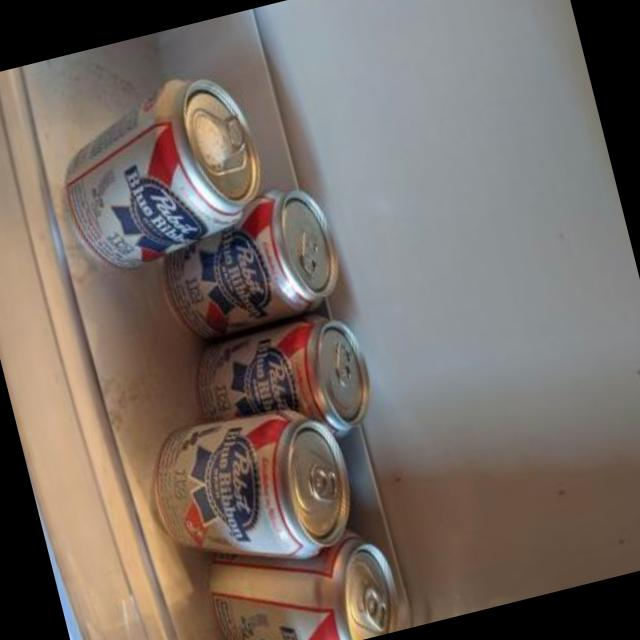metal: (68, 78, 258, 264), (154, 411, 350, 557), (166, 188, 338, 335), (210, 529, 397, 640), (199, 314, 368, 430)
